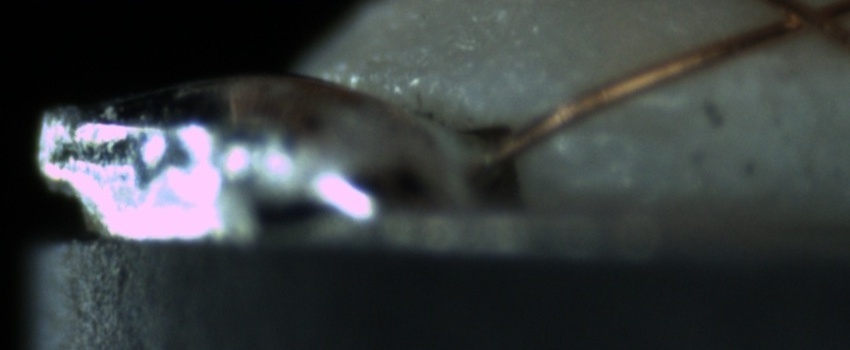CL: (763, 0, 846, 43)
